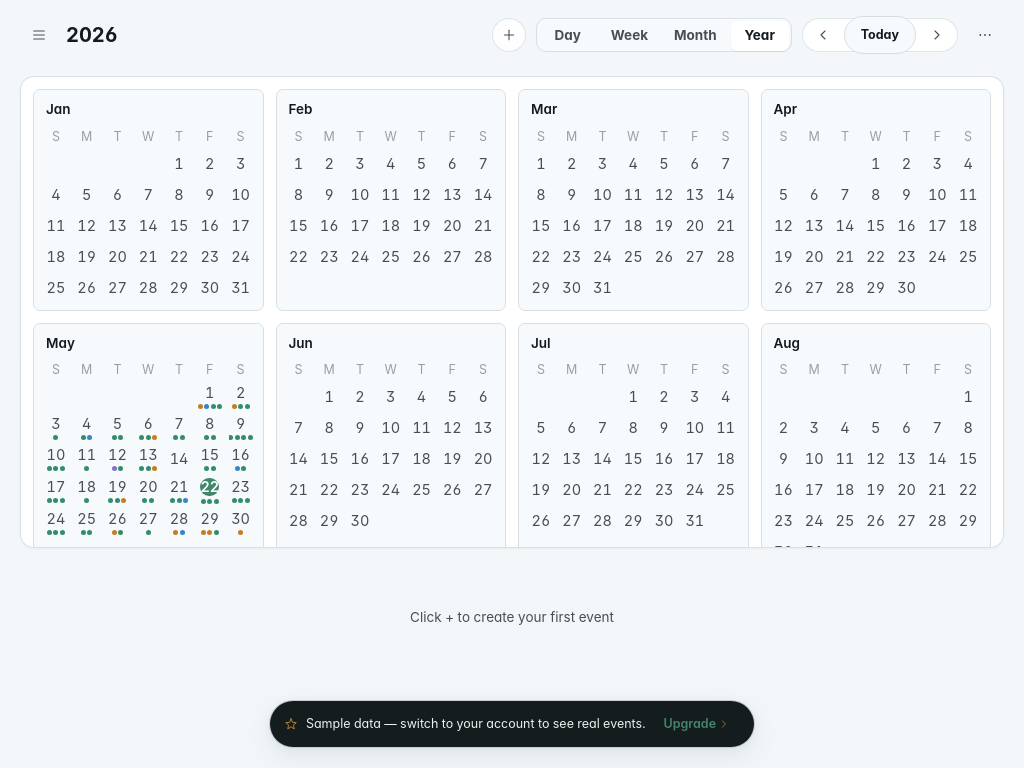
Scenario: YearView › shows month-view fixture events as same-color dots in the year grid
The image size is (1024, 768).
What coordinates should you click on to do the following:
click the 1st element with class "cal-year-event-dot"
I would click on:
 (200, 406)
Its box is [198,404,203,409].
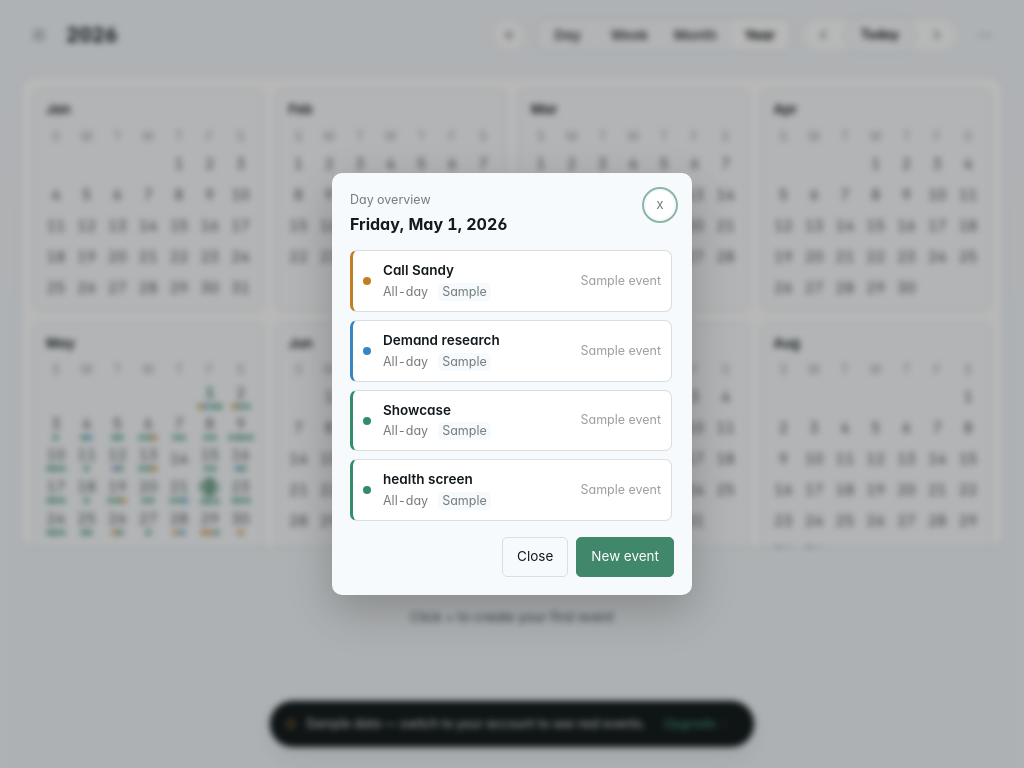
Expected: the dialog with test id "day-overview" is shown, [332,173,692,595]
Expected: the heading with class "day-overview__title" reads "Friday, May 1, 2026", [350,214,508,234]
